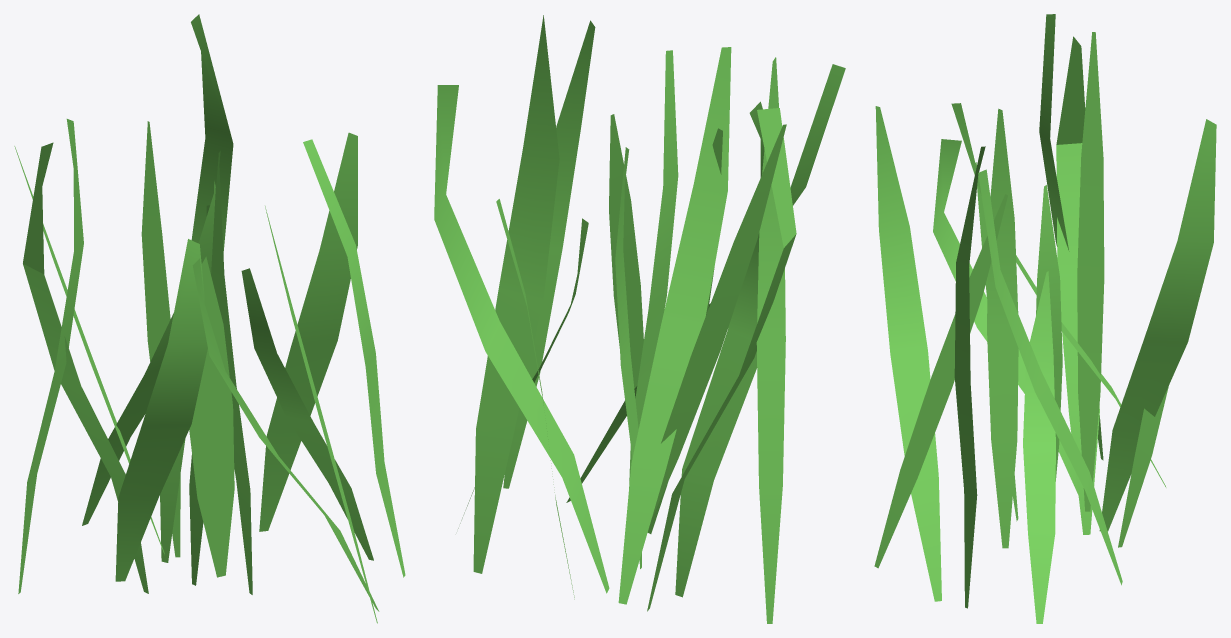
Rendered from Grass1 1.fbx.
3 views of the same model, side by side, from view 1: azimuth 30°, elevation 25°; view 2: azimuth 150°, elevation 25°; view 3: azimuth 270°, elevation 25° (orthographic). The views are drawn at different scales.
Parts seen in each view (by area): view 1: grass1; view 2: grass1; view 3: grass1.
Part boxes in pixels (<box>): grass1: <box>14,14,405,623</box>; grass1: <box>434,15,845,623</box>; grass1: <box>874,14,1216,623</box>.
Bounding box in the file's own units: 155 × 229 × 149.
